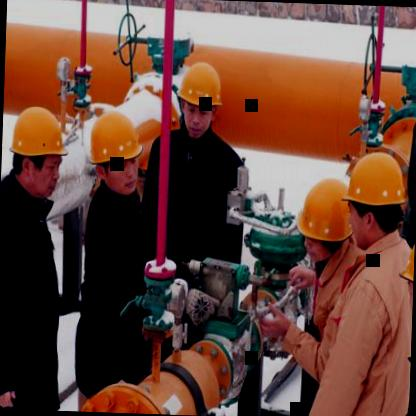helmet: (330, 148, 407, 254), (4, 100, 70, 202), (86, 104, 149, 194), (292, 174, 350, 266), (174, 53, 228, 142)
